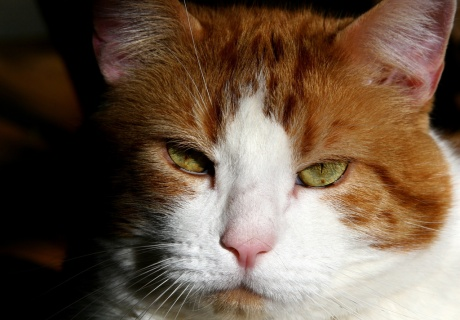Cat: (66, 0, 459, 319)
